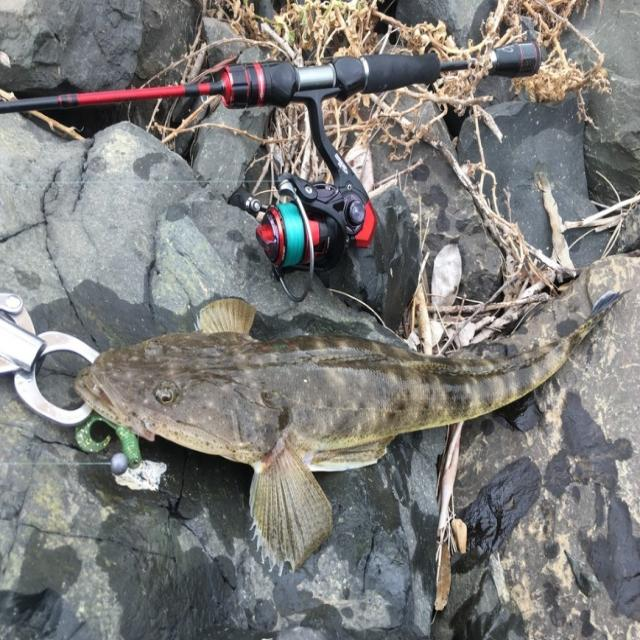Flathead: (73, 274, 627, 576)
